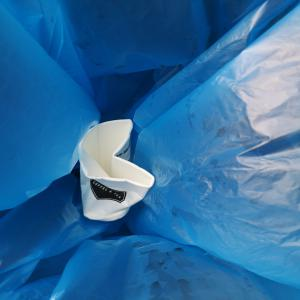Cup: (78, 118, 158, 225)
